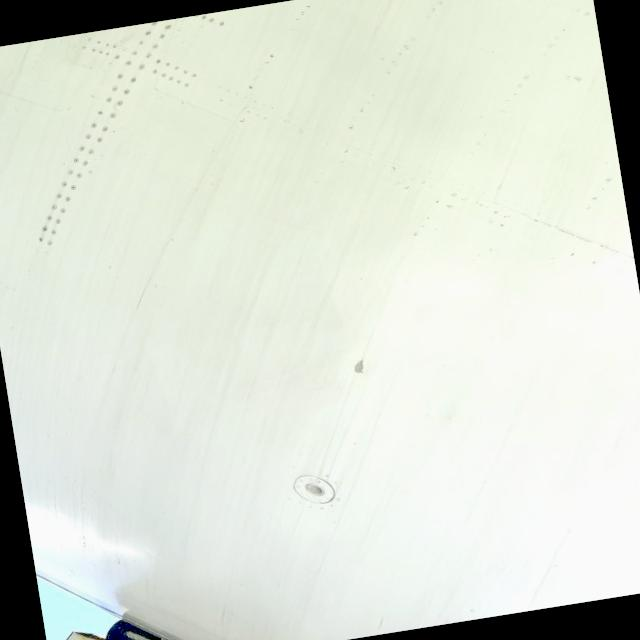crack: (136, 288, 164, 314), (338, 352, 371, 374)
